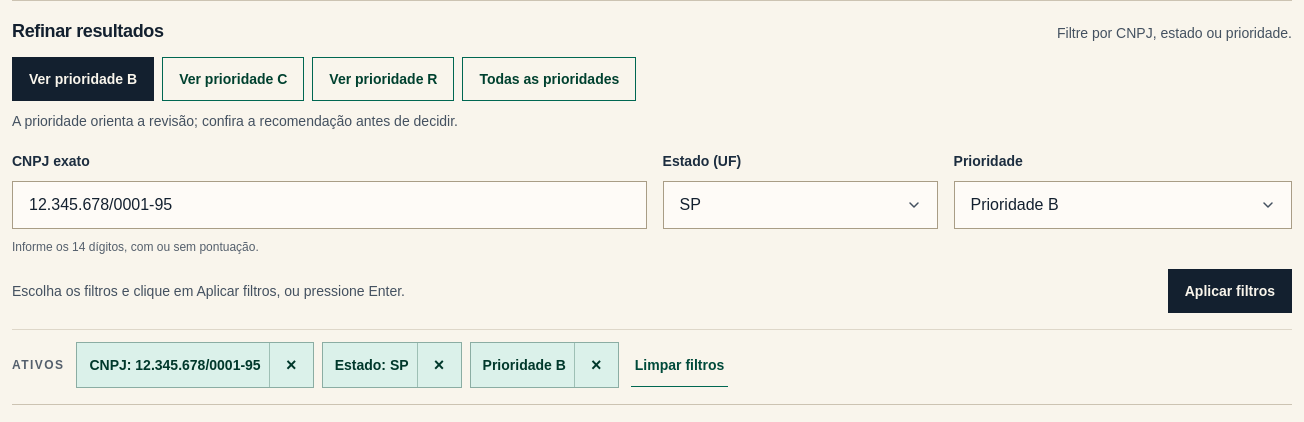
Test case: lead list filters › marks drafts as unapplied and discards them without changing the applied query
Replace the text in the field labelled "CNPJ exato" with "123" at (329, 205), box left=12, top=181, right=647, bottom=229
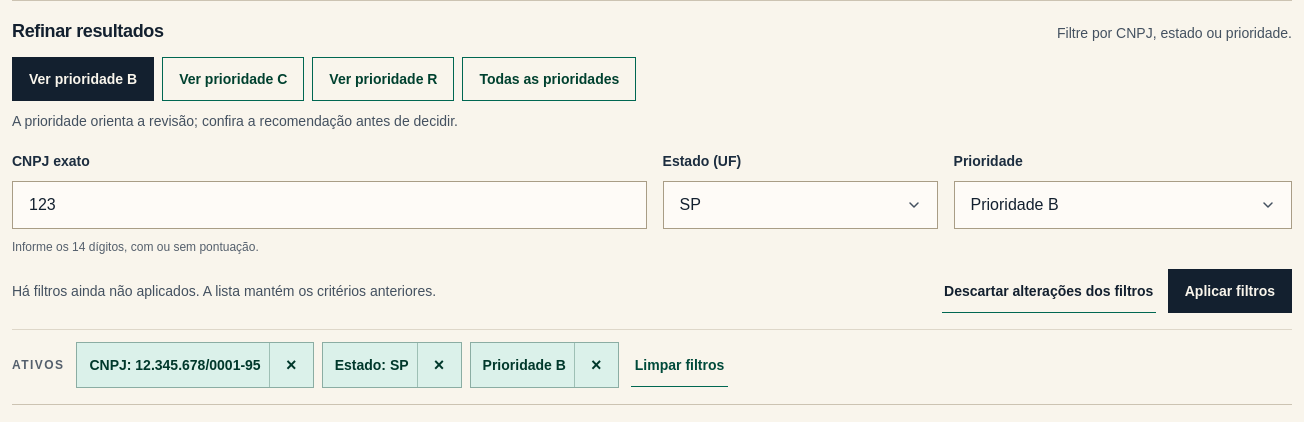
Select "BA" in the dropdown labelled "Estado (UF)" at (800, 205), box left=663, top=181, right=938, bottom=229
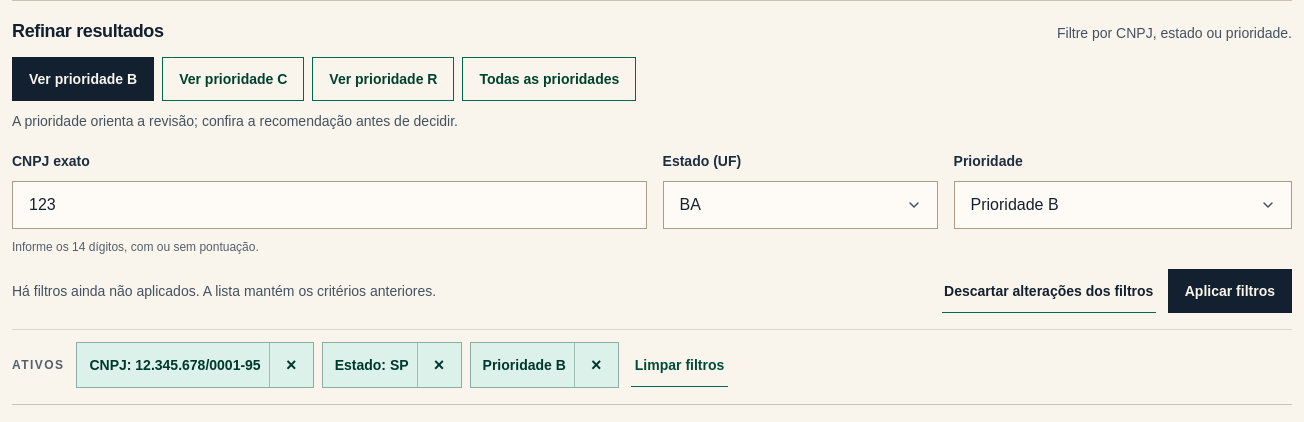
Select "Prioridade C" in the dropdown labelled "Prioridade" at (1123, 205), box left=954, top=181, right=1292, bottom=229
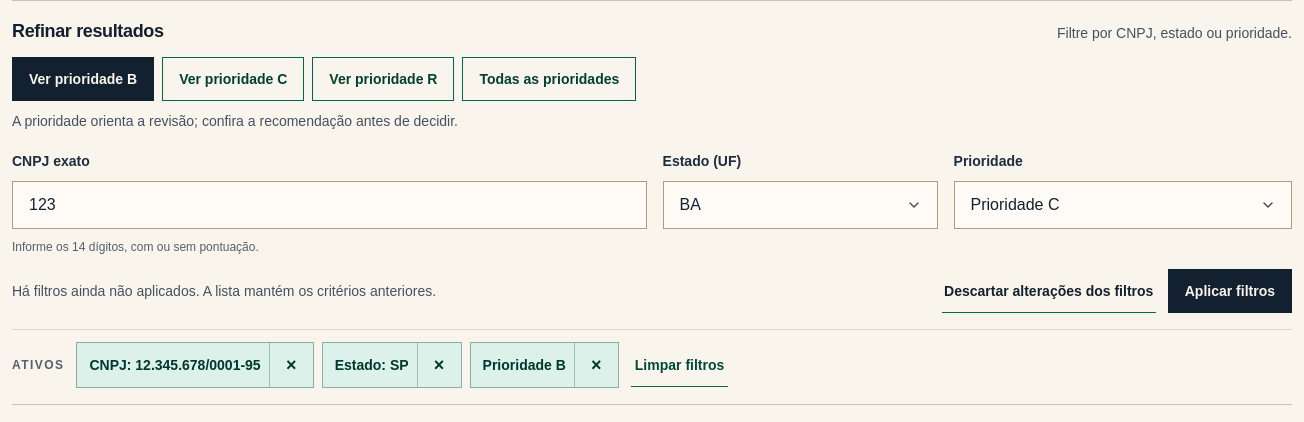
Submit the form named "Filtros de empresas", box left=12, top=149, right=1292, bottom=313
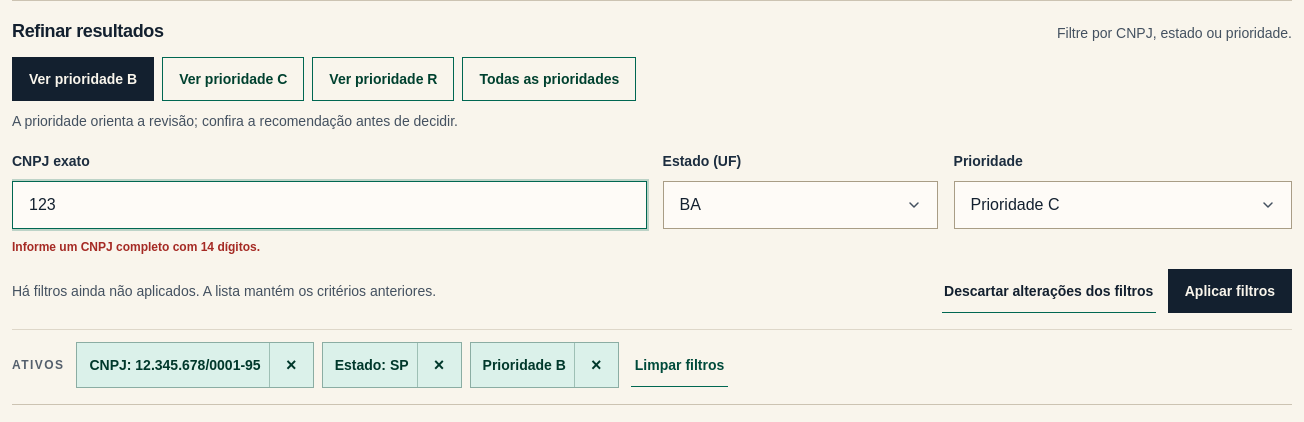
Expected: the element named "Filtros ativos" shows "Estado: SP", left=335, top=357, right=409, bottom=373
Click the button "Descartar alterações dos filtros" at (1049, 291), box left=942, top=269, right=1156, bottom=313
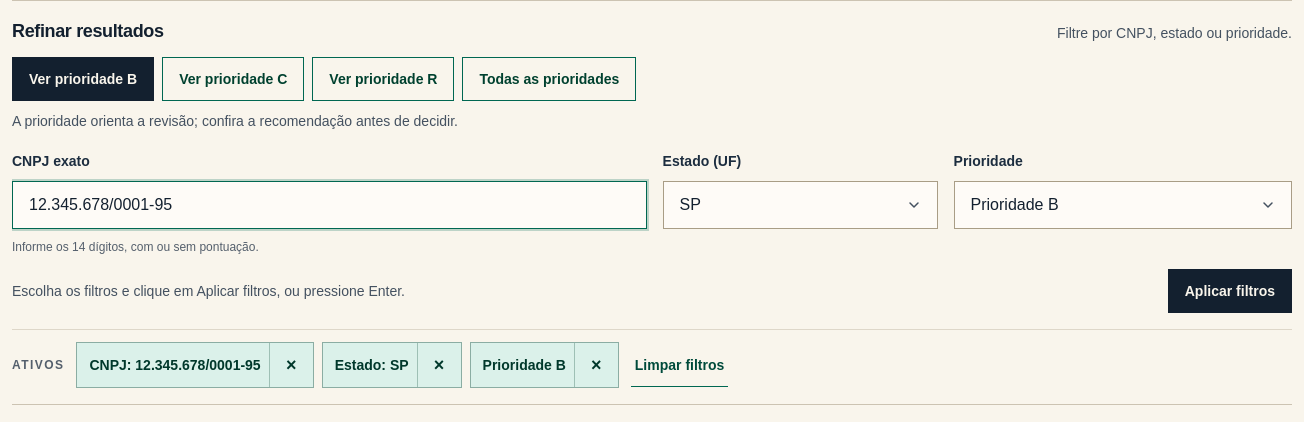
Expected: the field labelled "CNPJ exato" holds "12.345.678/0001-95", left=12, top=181, right=647, bottom=229
Expected: the text "Há filtros ainda não aplicados" is gone
Expected: the button "Descartar alterações dos filtros" is gone
